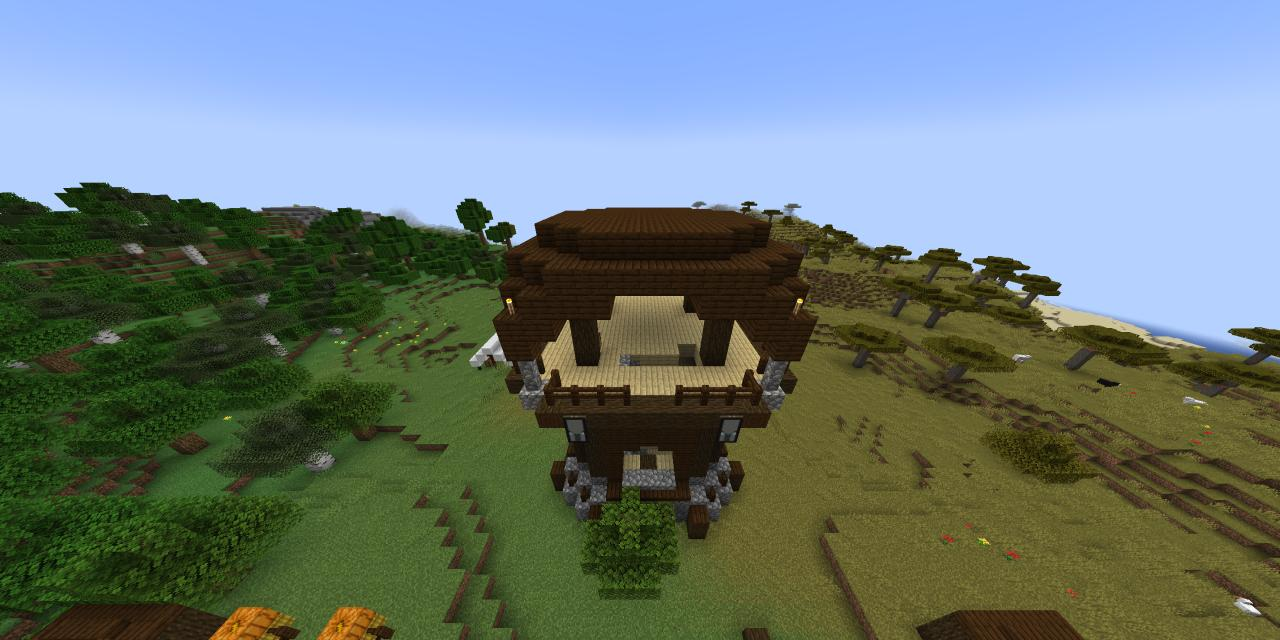pillager outpost: (483, 193, 828, 564)
